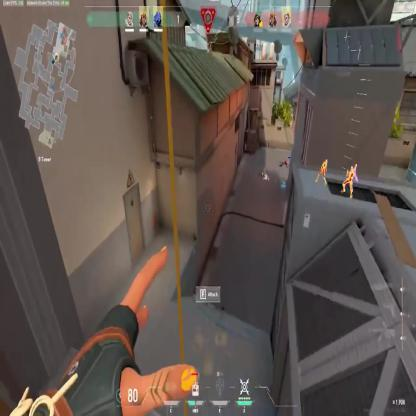enemy: (341, 164, 357, 199), (315, 158, 328, 186)
enemy_head: (351, 164, 354, 172), (325, 159, 328, 164)
